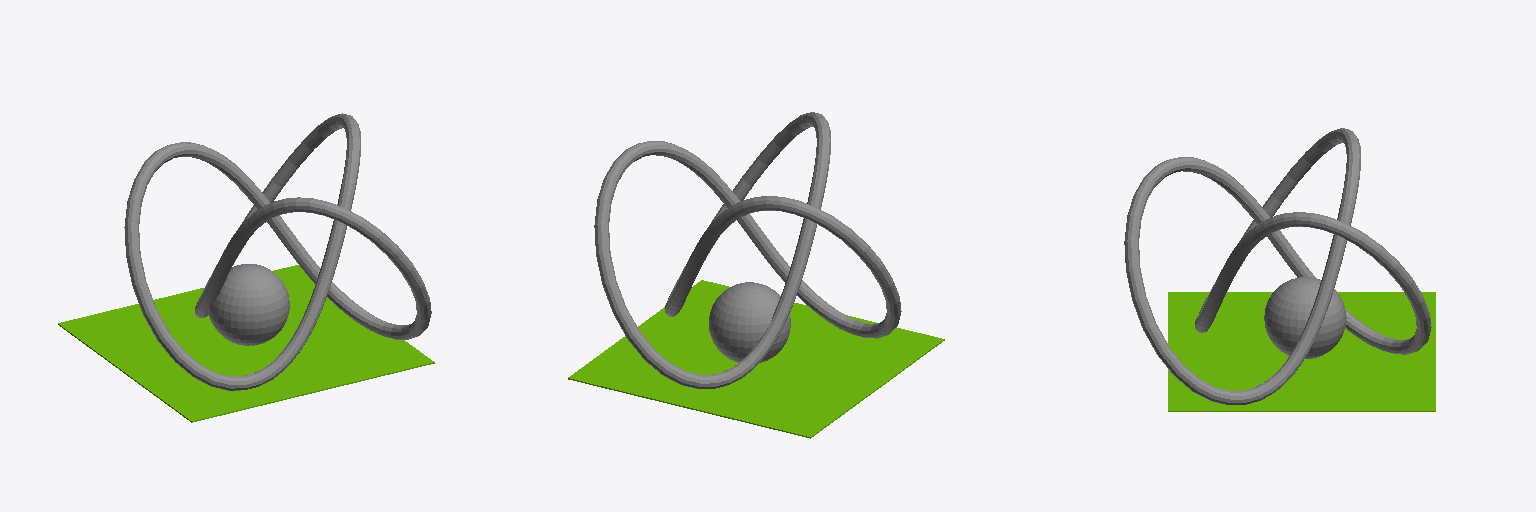
3 views of the same model, side by side, from view 1: azimuth 30°, elevation 25°; view 2: azimuth 150°, elevation 25°; view 3: azimuth 270°, elevation 25° (orthographic).
Visible parts, largest first — view 1: Box001, Torus_Knot001, Sphere001; view 2: Box001, Torus_Knot001, Sphere001; view 3: Box001, Torus_Knot001, Sphere001.
Boxes of the visible parts, box(x1,y1,x2,y2) form: Box001: box(58, 265, 434, 422); Torus_Knot001: box(124, 113, 431, 390); Sphere001: box(208, 264, 289, 345); Box001: box(568, 280, 944, 438); Torus_Knot001: box(594, 112, 901, 388); Sphere001: box(709, 282, 790, 362); Box001: box(1168, 292, 1435, 411); Torus_Knot001: box(1124, 128, 1431, 404); Sphere001: box(1264, 277, 1346, 358).
Bounding box in the file's own units: 136 × 101 × 147.